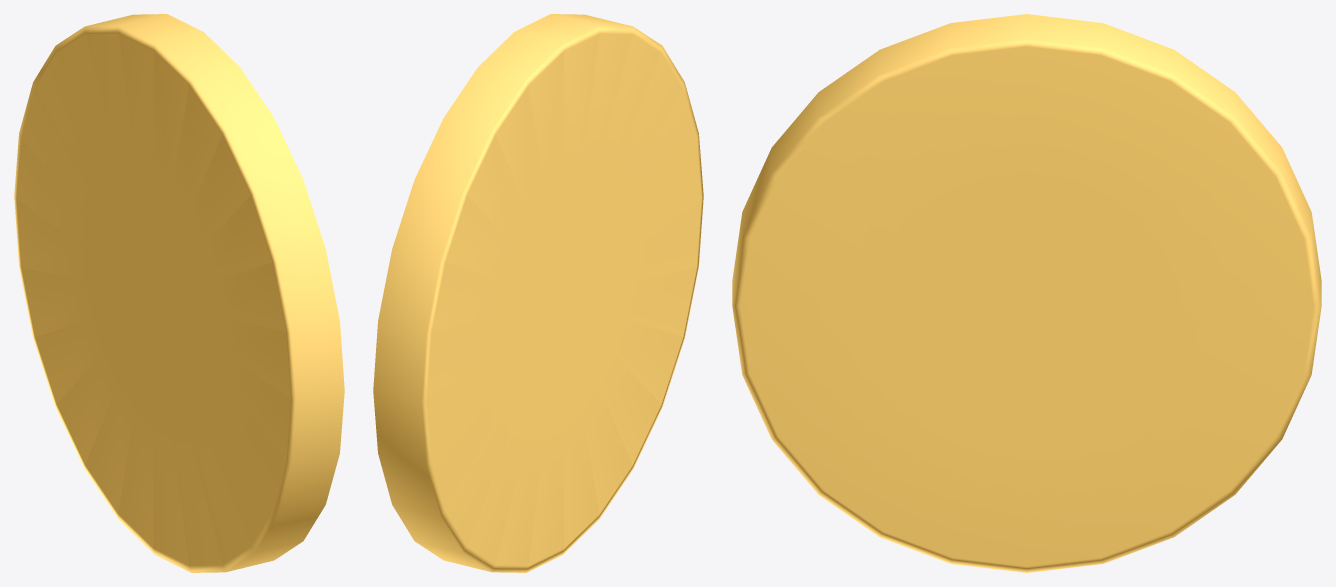
Rendered from SkullCoin.fbx.
3 renders of one model, left to right at view 1: azimuth 30°, elevation 25°; view 2: azimuth 150°, elevation 25°; view 3: azimuth 270°, elevation 25°, orthographic. The views are drawn at different scales.
Visible parts, largest first — view 1: Coin; view 2: Coin; view 3: Coin.
Boxes of the visible parts, x1,y1,x2,y2 form: Coin: (14, 14, 344, 572); Coin: (373, 14, 703, 572); Coin: (732, 14, 1321, 572).
Size of the model in its own units: 15.18 by 144 by 144.
